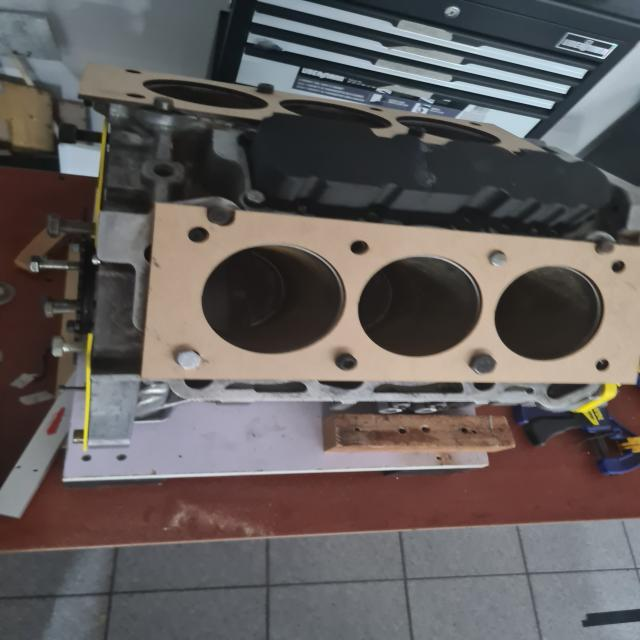vista1: (139, 203, 640, 384)
